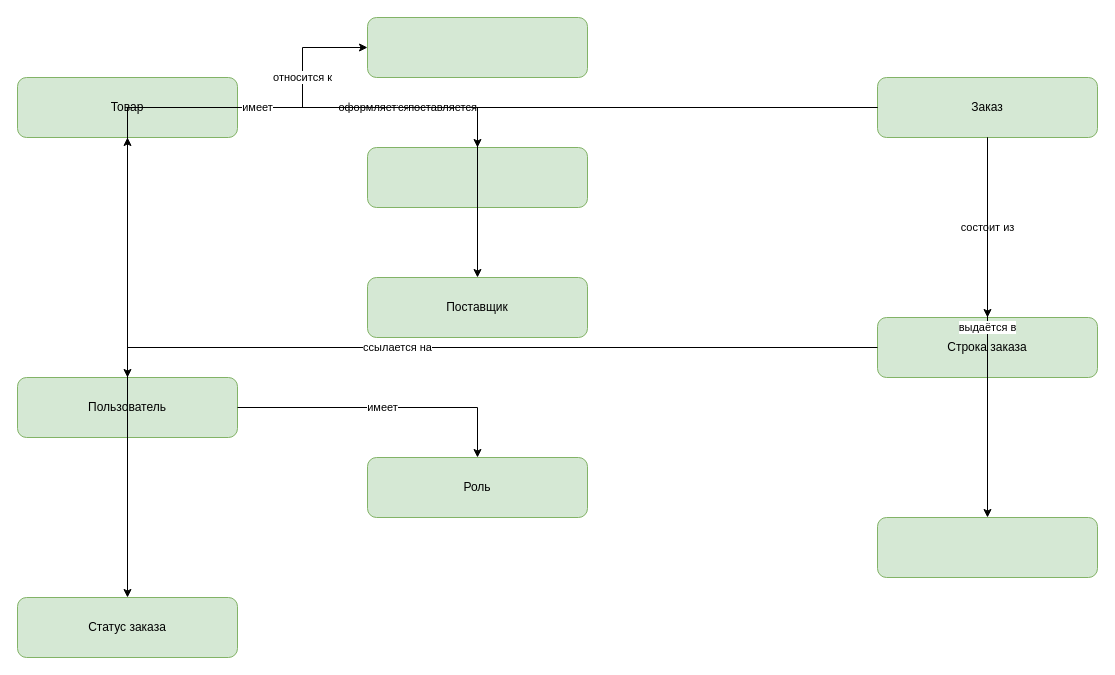
The diagram is 1115 pixels wide and 675 high, and some of its shapes have lost their labels. The shapes that lost their labels are listed below. From the top down, each one's box as (x1, y1, x2, y2) in pixels, then its label:
(366, 16, 588, 78): Категория
(366, 146, 588, 208): Производитель
(876, 516, 1098, 578): Пункт выдачи
